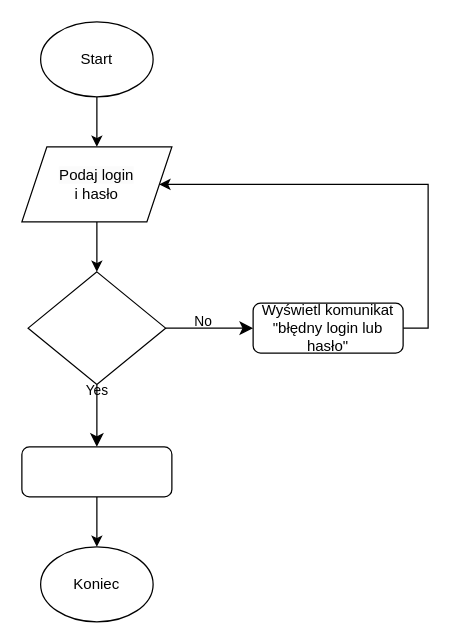
Some shapes in this 460 by 644 pixel diagram are drawn without their labels. The centre of each missing label's shape, as x and y in pixels:
"Czy login lub hasło jest niepoprawne?" belongs at (96,327).
"Zaloguj użytkownika" belongs at (96,471).
